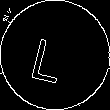L_N: (34, 27, 76, 83)
